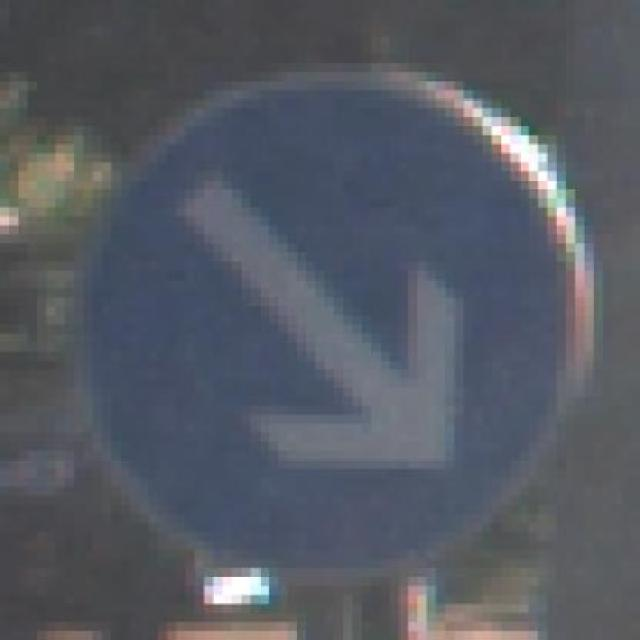Keep-Right: (74, 54, 603, 577)
